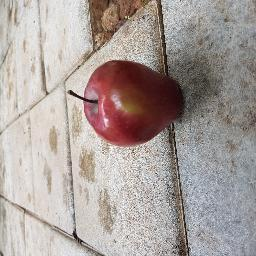Good_apple: (85, 62, 182, 145)
